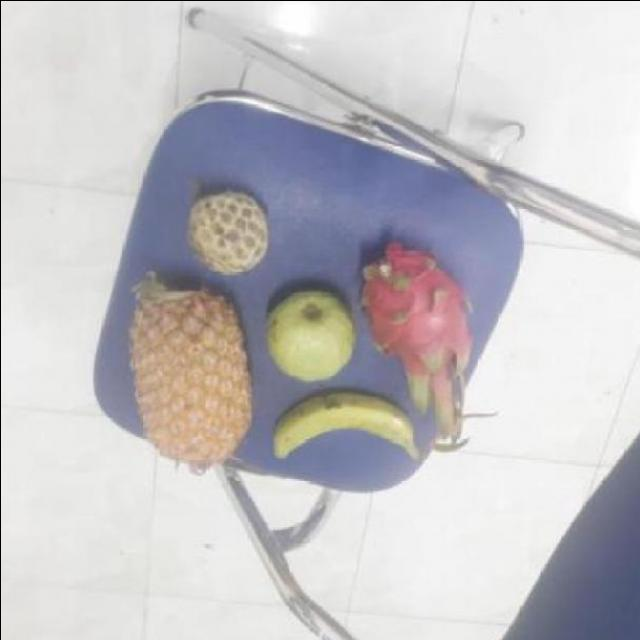banana: (259, 384, 427, 488)
dragon fruit: (356, 250, 472, 411)
guava: (258, 288, 356, 382)
pineapple: (121, 278, 254, 466)
sugar apple: (182, 188, 267, 270)
